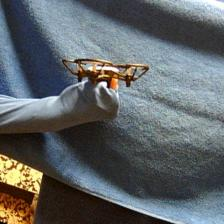drone: (61, 59, 152, 89)
